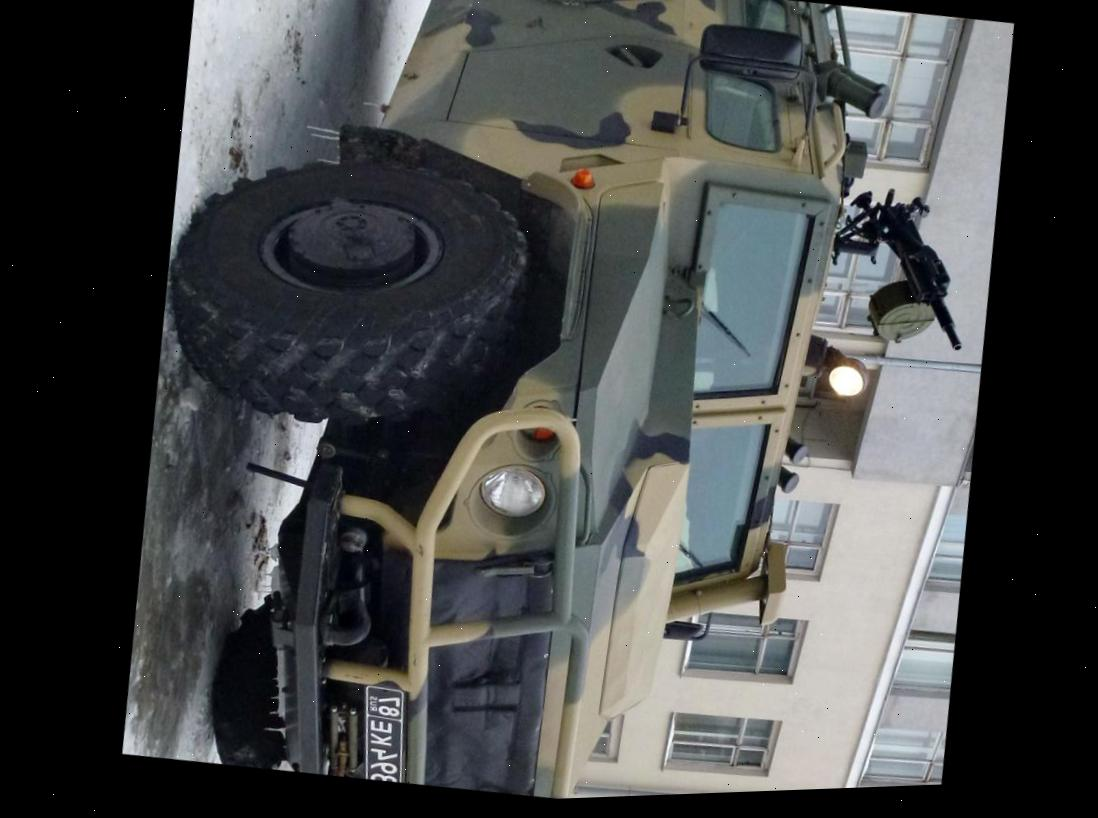armored_car: (89, 0, 1027, 815)
